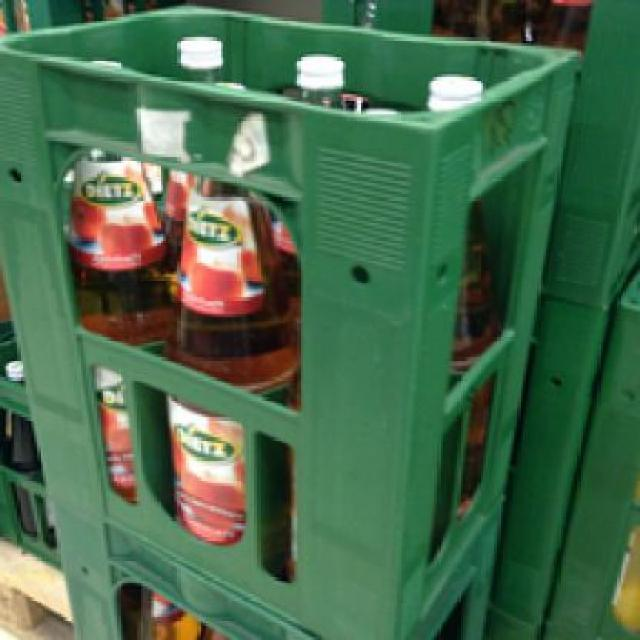Juice: (172, 94, 286, 560), (63, 60, 168, 500)
